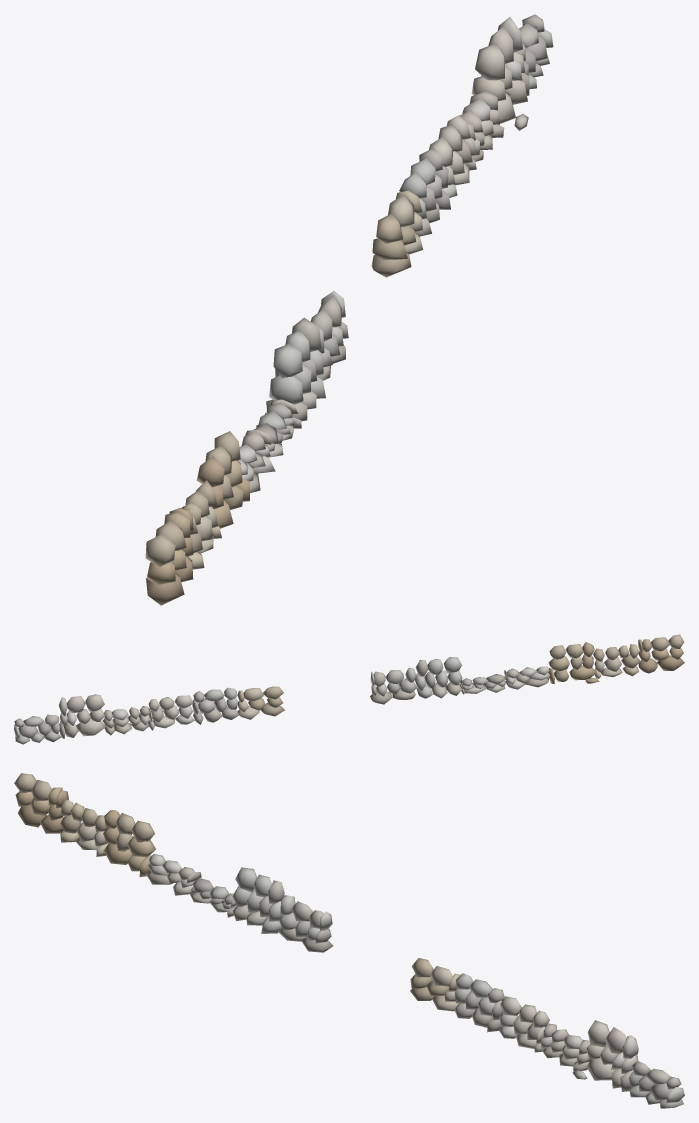
The model's file is farm_6_5_near.glb.
3 views of the same model, one above another, from view 1: azimuth 30°, elevation 25°; view 2: azimuth 150°, elevation 25°; view 3: azimuth 270°, elevation 25° (orthographic). The views are drawn at different scales.
Visible parts, largest first — view 1: geometry_0; view 2: geometry_0; view 3: geometry_0.
Part boxes in pixels (bbox=[...]): geometry_0: bbox=[145, 14, 553, 605]; geometry_0: bbox=[14, 634, 684, 744]; geometry_0: bbox=[14, 773, 684, 1108].
Size of the model in its own units: 17.33 by 1.55 by 16.77.
